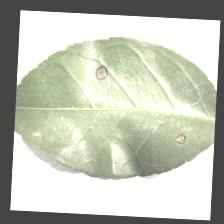canker: (84, 49, 192, 151)
